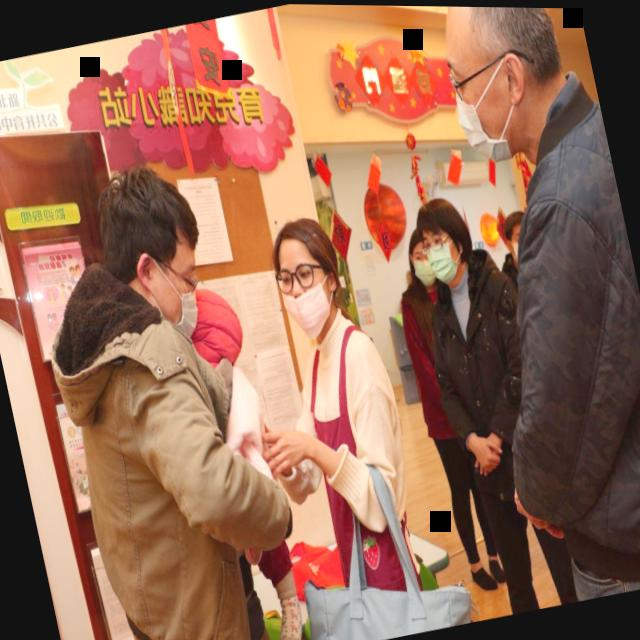Mask: (56, 154, 235, 384), (409, 5, 583, 182), (252, 201, 361, 345), (411, 193, 482, 292), (397, 221, 438, 294)
